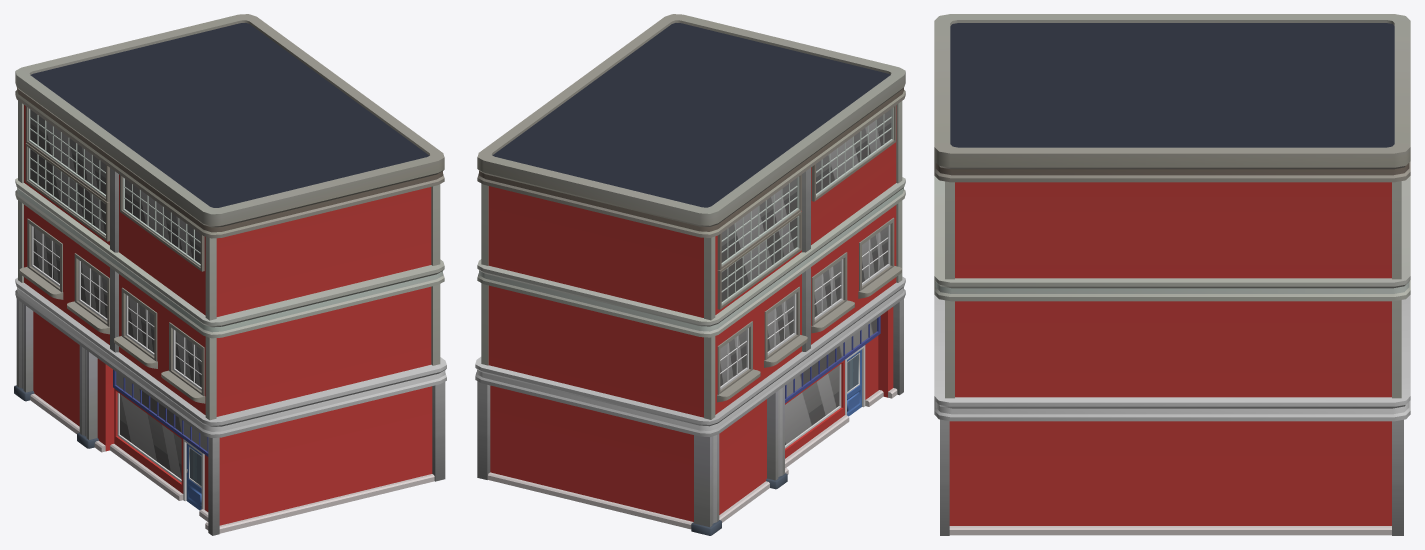
Rendered from Building_11_1_E.fbx.
The picture shows the model from 3 angles, left to right: view 1: azimuth 30°, elevation 25°; view 2: azimuth 150°, elevation 25°; view 3: azimuth 270°, elevation 25°; orthographic projection. The views are drawn at different scales.
Visible parts, largest first — view 1: Building_11_1_E; view 2: Building_11_1_E; view 3: Building_11_1_E.
Part boxes in pixels (box(x1,y1,x2,y2)): Building_11_1_E: box(14, 14, 446, 535); Building_11_1_E: box(475, 14, 905, 535); Building_11_1_E: box(934, 14, 1410, 535).
Bounding box in the file's own units: 827 × 1034 × 1163.
